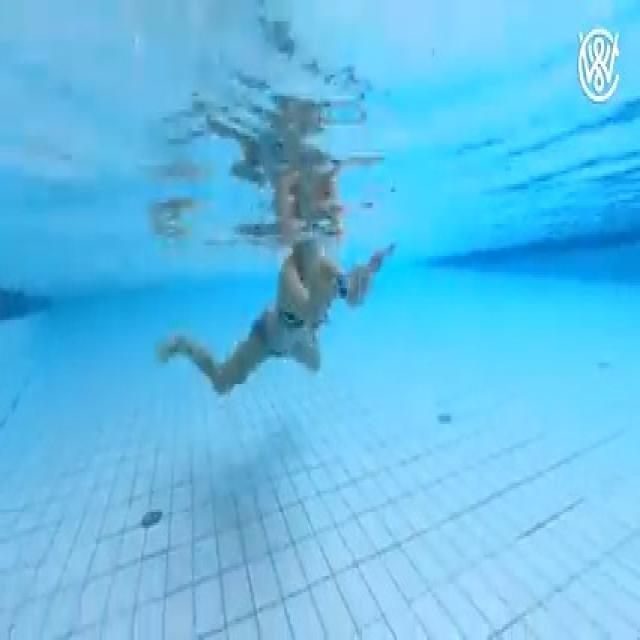Swimming: (157, 240, 394, 394)
